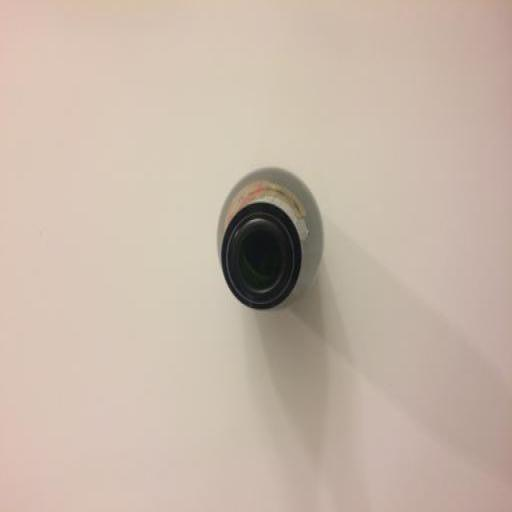glass bottle: (219, 165, 326, 312)
